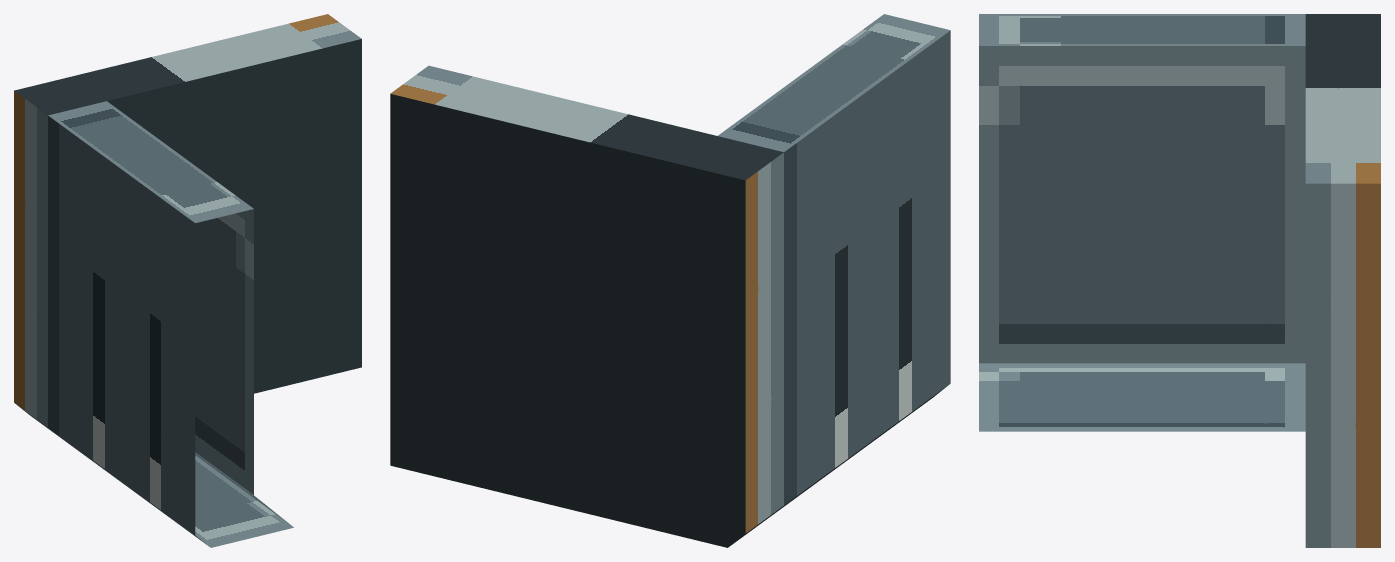
Rendered from casing_d7_front_x-3_y-1.obj.
The picture shows the model from 3 angles, left to right: view 1: azimuth 30°, elevation 25°; view 2: azimuth 150°, elevation 25°; view 3: azimuth 270°, elevation 25°; orthographic projection. The views are drawn at different scales.
Visible parts, largest first — view 1: d7_front_x-3_y-1; view 2: d7_front_x-3_y-1; view 3: d7_front_x-3_y-1.
Part boxes in pixels (x1,y1,x2,y2): d7_front_x-3_y-1: (14,14,361,547); d7_front_x-3_y-1: (390,14,950,547); d7_front_x-3_y-1: (979,14,1380,547).
Bounding box in the file's own units: 1 × 1 × 1.
